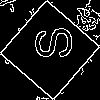S: (25, 25, 74, 62)
